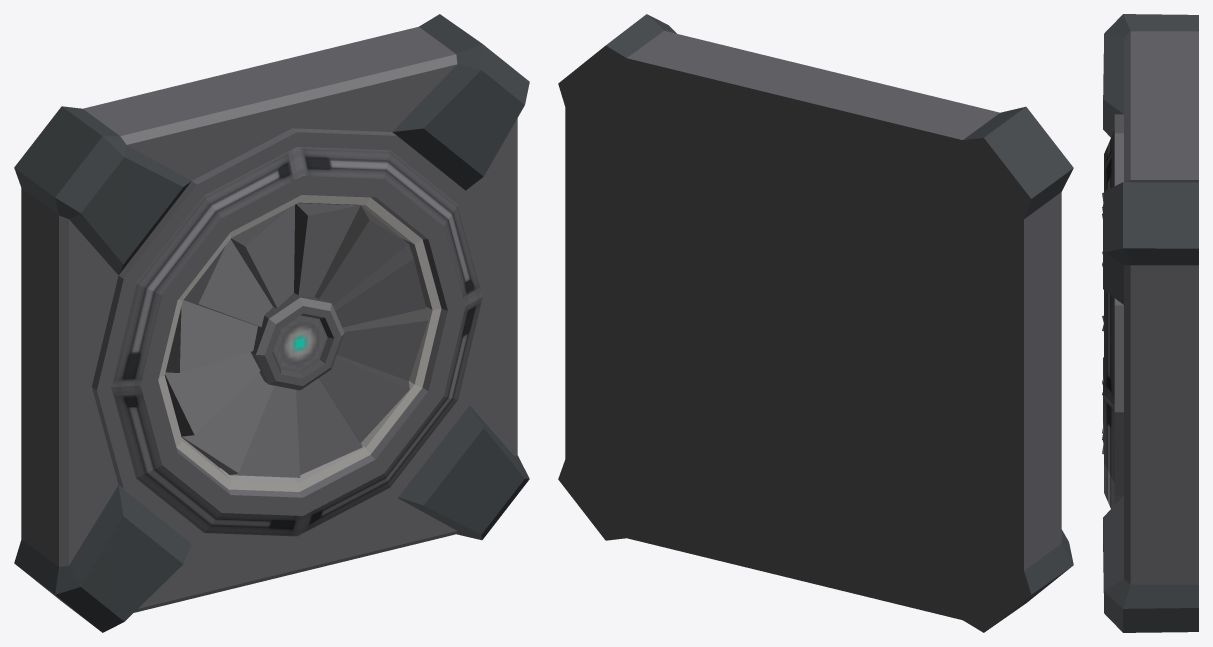
The model's file is cyber_SM_Prop_Greebles_05_Split.gltf.
3 views of the same model, side by side, from view 1: azimuth 30°, elevation 25°; view 2: azimuth 150°, elevation 25°; view 3: azimuth 270°, elevation 25° (orthographic). The views are drawn at different scales.
Parts seen in each view (by area): view 1: SM_Prop_Greebles_05_Split, SM_Prop_Greebles_05_Split_Fan; view 2: SM_Prop_Greebles_05_Split; view 3: SM_Prop_Greebles_05_Split.
Part boxes in pixels (x1,y1,x2,y2): SM_Prop_Greebles_05_Split: (14, 14, 529, 632); SM_Prop_Greebles_05_Split_Fan: (165, 203, 428, 477); SM_Prop_Greebles_05_Split: (558, 14, 1073, 632); SM_Prop_Greebles_05_Split: (1103, 14, 1198, 632).
Bounding box in the file's own units: 0.9723 × 0.9723 × 0.1895.
2 materials, 2 textured.
